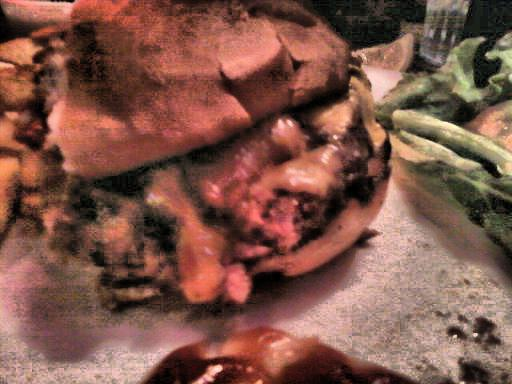burger: (35, 1, 408, 304)
